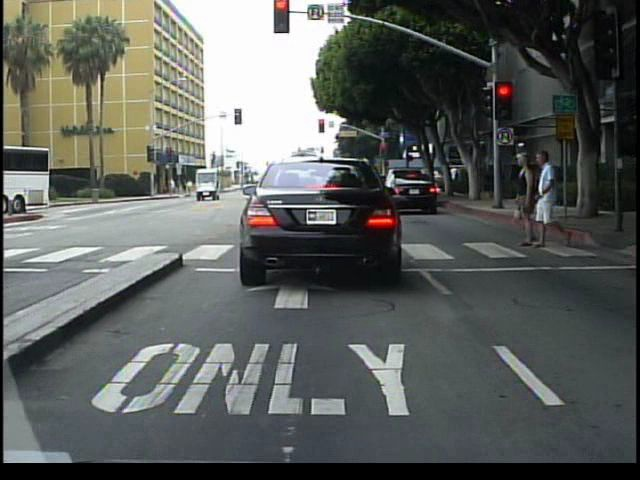person: (536, 149, 569, 252), (509, 152, 541, 254)
